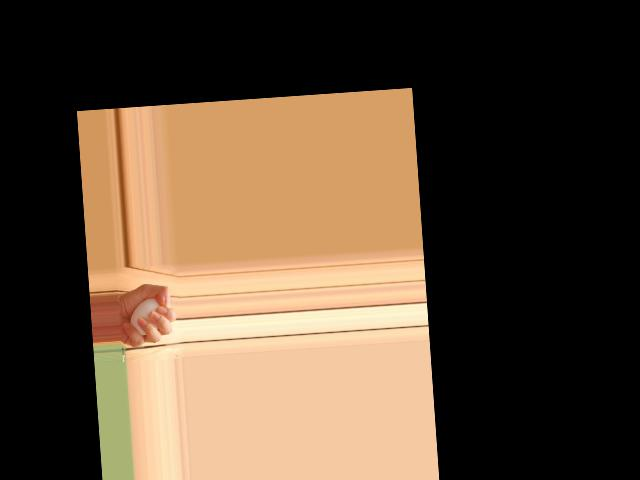egg: (128, 297, 161, 336)
